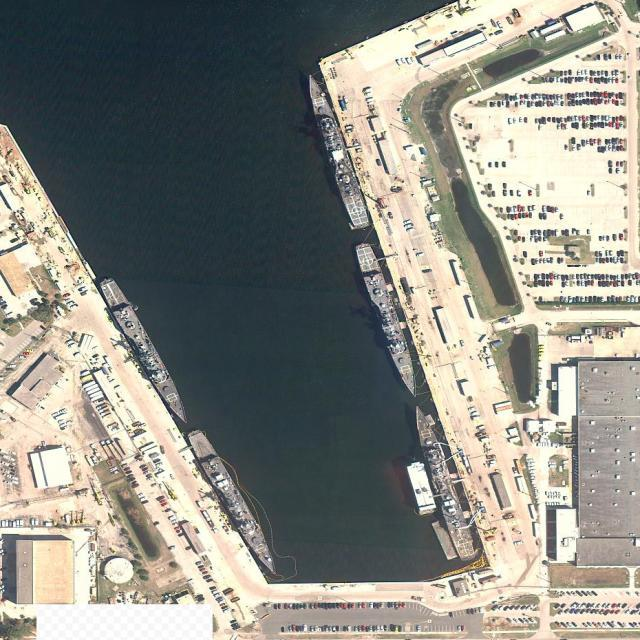Frigate: (184, 427, 285, 579), (100, 277, 192, 429), (406, 403, 478, 562), (355, 240, 420, 401), (303, 71, 370, 226)
